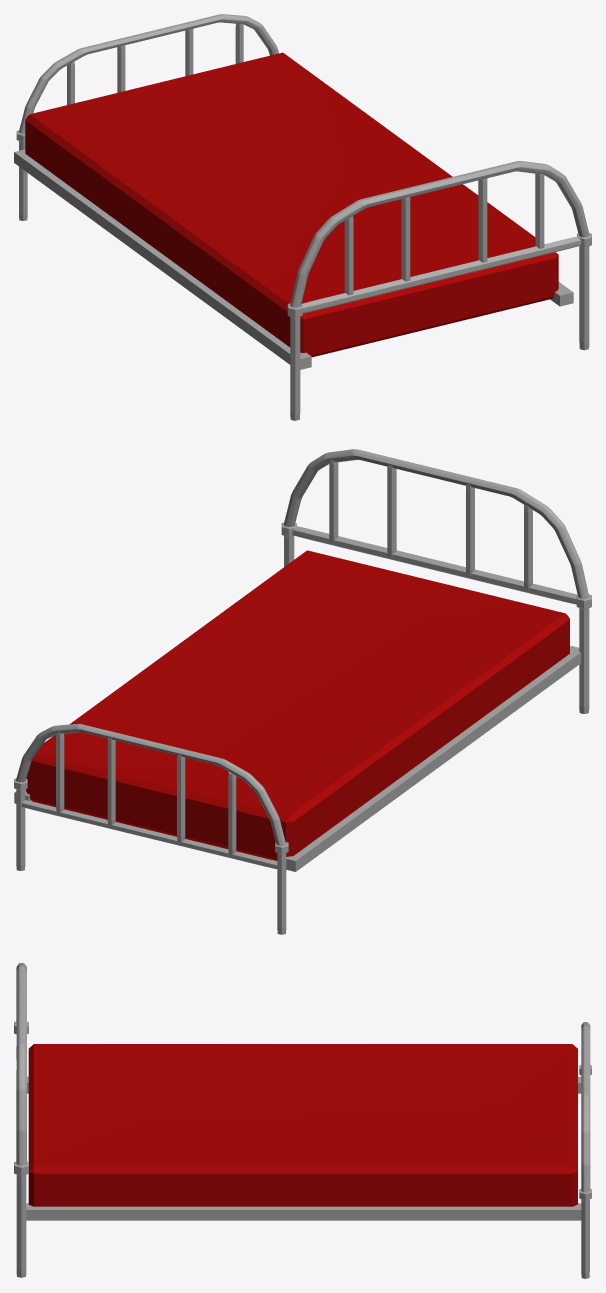
The model's file is Asset_Bed1.fbx.
The picture shows the model from 3 angles, top to bottom: view 1: azimuth 30°, elevation 25°; view 2: azimuth 150°, elevation 25°; view 3: azimuth 270°, elevation 25°; orthographic projection. The views are drawn at different scales.
Visible parts, largest first — view 1: polySurface31; view 2: polySurface31; view 3: polySurface31.
Part boxes in pixels (x1,y1,x2,y2): polySurface31: (14, 14, 591, 420); polySurface31: (14, 449, 591, 934); polySurface31: (14, 963, 591, 1278).
Bounding box in the file's own units: 9.08 × 6.11 × 15.08.
